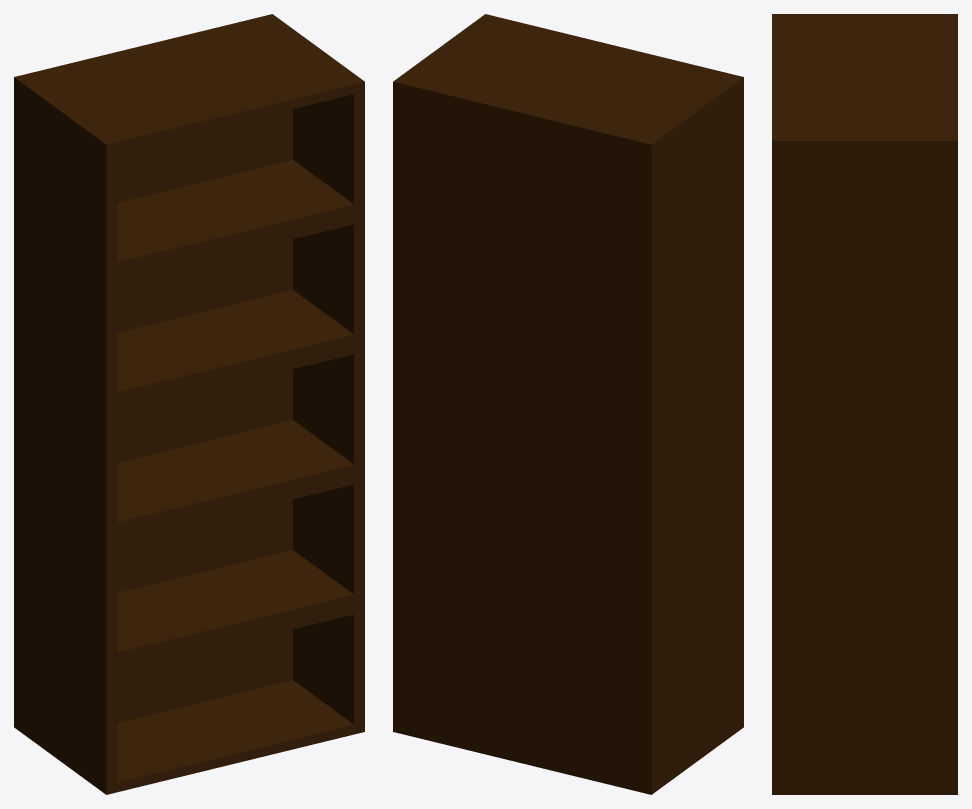
Rendered from bookshelf_01.glb.
3 renders of one model, left to right at view 1: azimuth 30°, elevation 25°; view 2: azimuth 150°, elevation 25°; view 3: azimuth 270°, elevation 25°, orthographic.
Visible parts, largest first — view 1: Cube; view 2: Cube; view 3: Cube.
Part boxes in pixels (x1,y1,x2,y2): Cube: (14, 14, 364, 794); Cube: (393, 14, 743, 794); Cube: (772, 14, 957, 794).
Size of the model in its own units: 0.8046 by 1.93 by 0.4983.
Materials: 1 (1 with a texture image).
